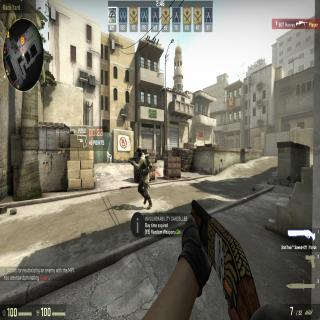CT-Body: (134, 145, 152, 207)
CT-Head: (136, 146, 143, 158)
